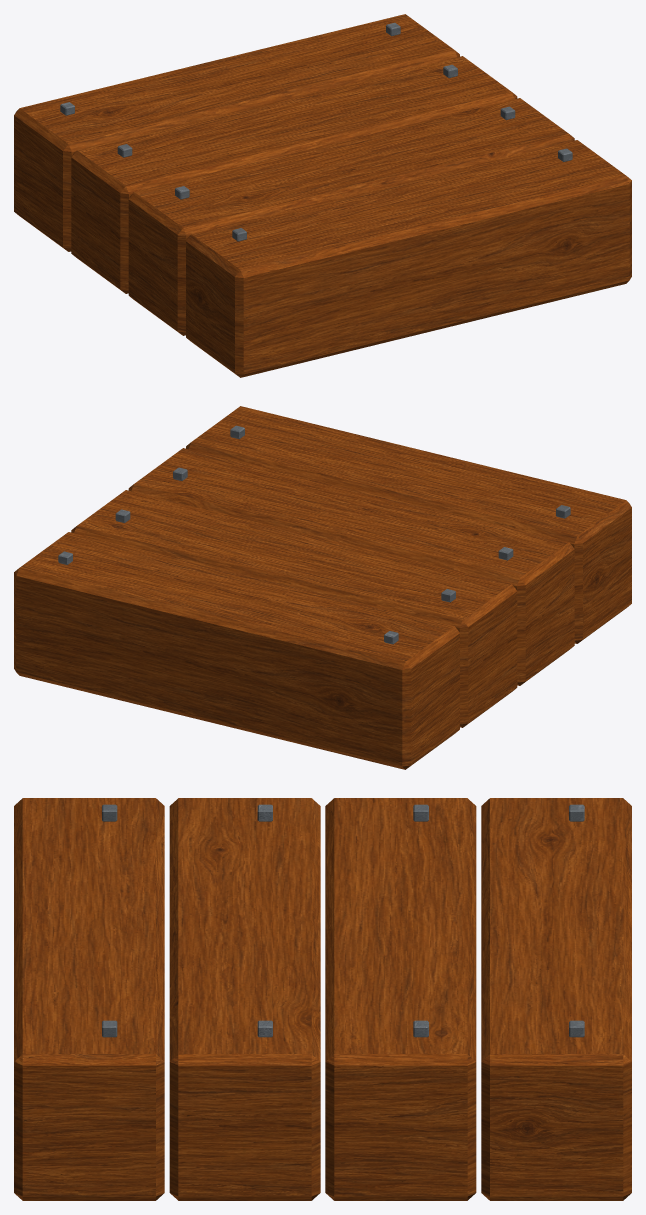
Rendered from train_wooden_plank.gltf.
The picture shows the model from 3 angles, top to bottom: view 1: azimuth 30°, elevation 25°; view 2: azimuth 150°, elevation 25°; view 3: azimuth 270°, elevation 25°; orthographic projection. The views are drawn at different scales.
Size of the model in its own units: 1 by 0.28 by 0.992.
Materials: 2 (2 with a texture image).
